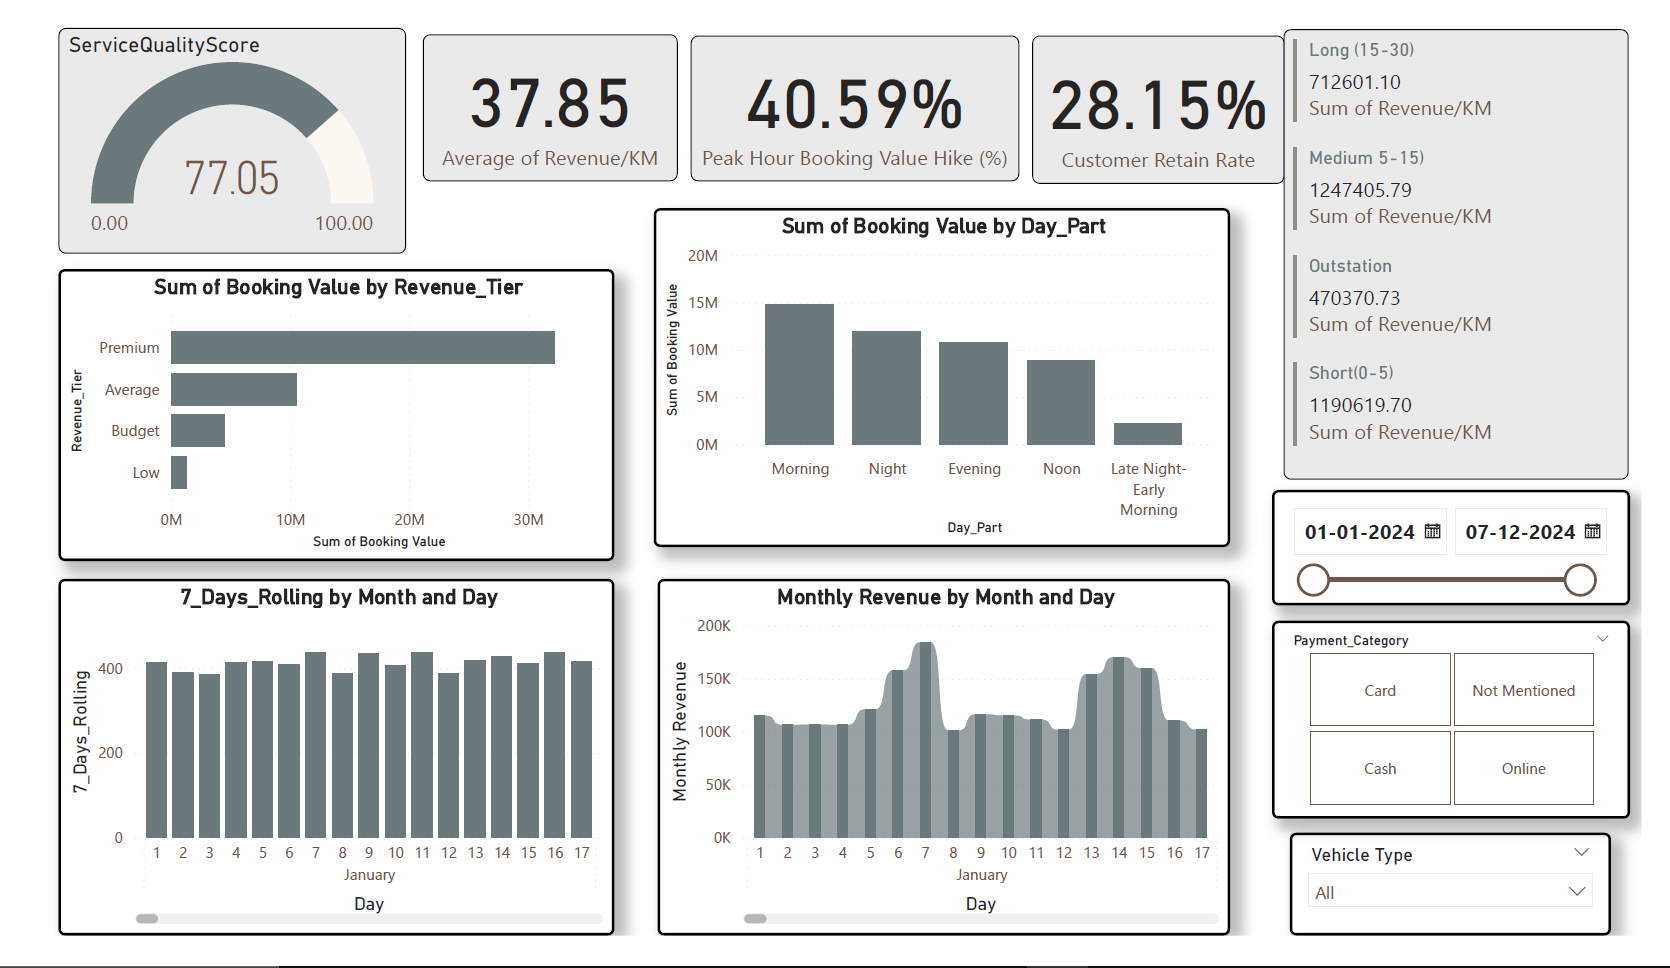

The page's visual inventory and layout, read from the dashboard file:
{"tool":"powerbi","page":{"name":"Summary","canvas":[1280,720],"ordinal":7},"visuals":[{"type":"gauge","fields":{"Y":["rideBookings.ServiceQualityScore"]},"box":[32.9,5.5,274.4,177],"z":0},{"type":"card","fields":{"Values":["rideBookings.PremiumPeakHourIndex"]},"box":[531,11,259.3,115.3],"z":1000},{"type":"card","fields":{"Values":["rideBookings.CustomerRetainRate"]},"box":[800,11,199,116.6],"z":2000},{"type":"card","fields":{"Values":["Avg(rideBookings.RevenuePerKM)"]},"box":[319.7,9.6,201.7,116.6],"z":3000},{"type":"clusteredColumnChart","fields":{"Category":["rideBookings.Day_Part"],"Y":["Sum(rideBookings.Booking Value)"]},"box":[502.2,146.8,454.2,267.6],"z":4000},{"type":"clusteredBarChart","fields":{"Y":["Sum(rideBookings.Booking Value)"],"Category":["rideBookings.Revenue_Tier"]},"box":[32.9,194.9,437.7,230.5],"z":5000},{"type":"multiRowCard","fields":{"Values":["rideBookings.Distance_Category","Sum(rideBookings.RevenuePerKM)"]},"box":[998.4,5.7,271.4,355],"z":6000},{"type":"ribbonChart","fields":{"Y":["rideBookings.Monthly Revenue"],"Category":["rideBookings.Date.Variation.Date Hierarchy.Month","rideBookings.Date.Variation.Date Hierarchy.Day"]},"box":[505,439.1,451.5,281.3],"z":7000},{"type":"columnChart","fields":{"Y":["rideBookings.7_Days_Rolling"],"Category":["rideBookings.Date.Variation.Date Hierarchy.Month","rideBookings.Date.Variation.Date Hierarchy.Day"]},"box":[32.9,439.1,437.7,281.3],"z":8000},{"type":"slicer","fields":{"Values":["rideBookings.Date"]},"box":[989.4,369.1,281.3,90.6],"z":9000},{"type":"slicer","fields":{"Values":["rideBookings.Vehicle Type"]},"box":[1003.1,639.5,252.5,81],"z":10000},{"type":"slicer","fields":{"Values":["rideBookings.Payment_Category"]},"box":[989.4,472,281.3,156.4],"z":11000}]}

Visuals, with their boxes in screenshot pixels (x1, y1, x2, y2), scaled from the page's 1280x720 canvas onto the 1670x968 screenshot:
gauge - rideBookings.ServiceQualityScore: [43,7,401,245]
card - rideBookings.PremiumPeakHourIndex: [693,15,1031,170]
card - rideBookings.CustomerRetainRate: [1044,15,1303,172]
card - Avg(rideBookings.RevenuePerKM): [417,13,680,170]
clusteredColumnChart - rideBookings.Day_Part x Sum(rideBookings.Booking Value): [655,197,1248,557]
clusteredBarChart - Sum(rideBookings.Booking Value) x rideBookings.Revenue_Tier: [43,262,614,572]
multiRowCard - rideBookings.Distance_Category x Sum(rideBookings.RevenuePerKM): [1303,8,1657,485]
ribbonChart - rideBookings.Monthly Revenue x rideBookings.Date.Variation.Date Hierarchy.Month: [659,590,1248,967]
columnChart - rideBookings.7_Days_Rolling x rideBookings.Date.Variation.Date Hierarchy.Month: [43,590,614,967]
slicer - rideBookings.Date: [1291,496,1658,618]
slicer - rideBookings.Vehicle Type: [1309,860,1638,967]
slicer - rideBookings.Payment_Category: [1291,635,1658,845]
